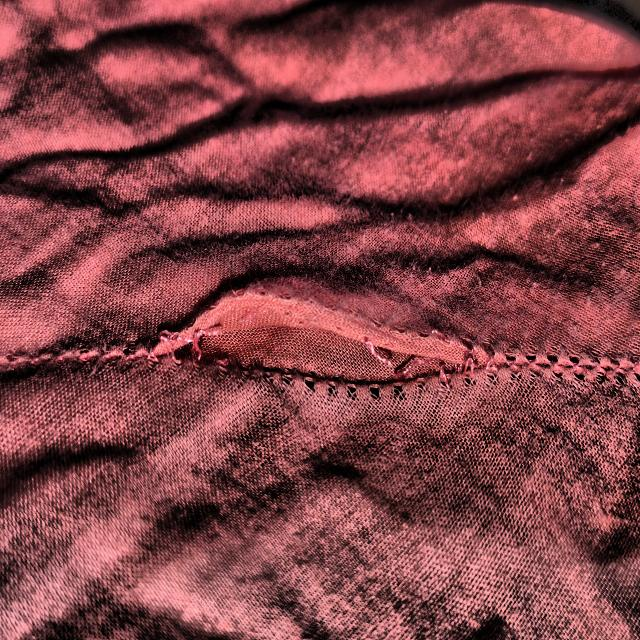seam: (150, 271, 490, 444)
